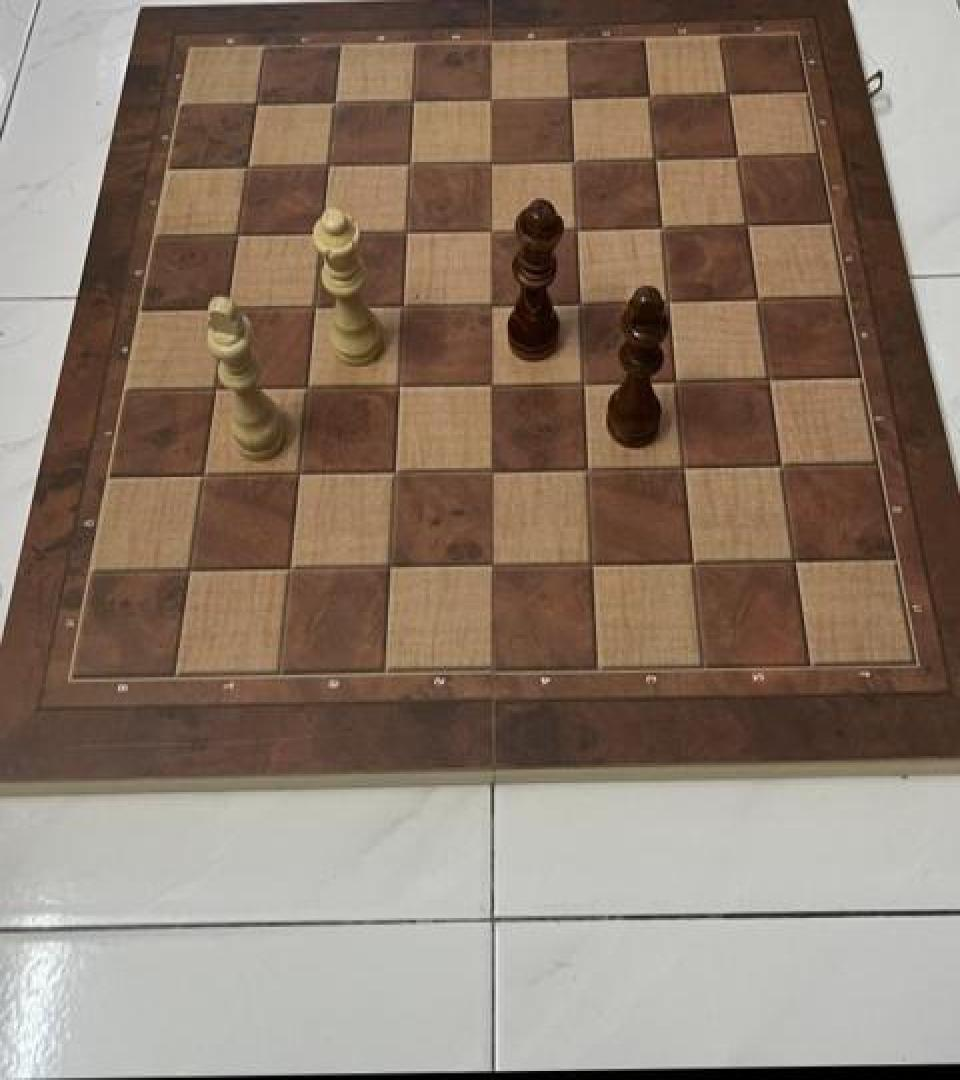xcorner: (239, 82, 275, 123), (553, 75, 589, 116), (632, 73, 668, 114), (230, 145, 266, 186), (556, 138, 592, 179), (638, 136, 674, 177), (389, 210, 425, 251), (474, 208, 510, 249), (474, 281, 510, 322), (562, 280, 598, 321), (381, 363, 417, 404), (473, 362, 509, 403), (281, 453, 317, 494), (377, 451, 413, 492), (763, 443, 799, 484), (171, 550, 207, 591), (574, 543, 610, 584), (675, 541, 711, 582), (317, 81, 353, 121), (396, 79, 432, 119), (475, 77, 511, 117), (711, 71, 747, 111), (311, 144, 347, 184), (393, 142, 429, 182), (474, 140, 510, 180), (720, 134, 756, 174), (220, 214, 256, 254), (304, 212, 340, 252), (559, 206, 595, 246), (644, 205, 680, 245), (730, 203, 766, 243), (209, 287, 245, 327), (297, 286, 333, 326), (385, 284, 421, 324), (651, 278, 687, 318), (740, 277, 776, 317), (197, 368, 233, 408), (289, 366, 325, 406), (566, 360, 602, 400), (658, 358, 694, 398), (751, 357, 787, 397), (185, 455, 221, 495), (473, 449, 509, 489), (569, 448, 605, 488), (666, 446, 702, 486), (271, 548, 307, 588), (372, 547, 408, 587), (473, 545, 509, 585), (776, 539, 812, 579)
